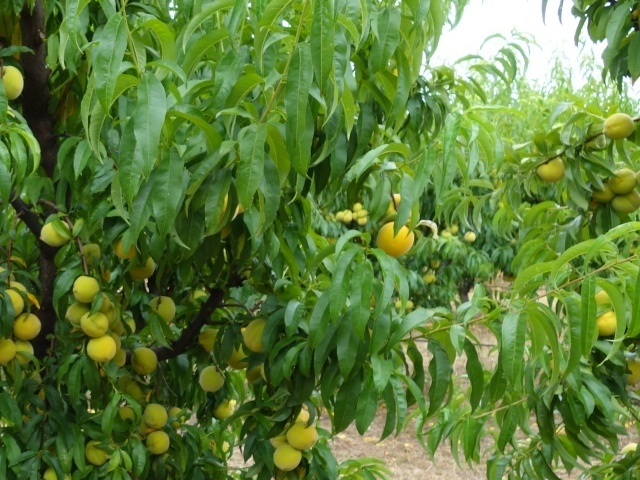peach: (590, 287, 628, 342), (375, 220, 420, 260), (241, 317, 277, 356), (84, 332, 120, 367), (37, 215, 75, 248), (11, 308, 46, 343), (533, 150, 568, 185), (601, 110, 638, 143), (283, 421, 322, 451), (1, 62, 28, 105), (195, 362, 228, 397), (67, 272, 103, 304), (145, 293, 179, 326), (272, 443, 306, 475), (77, 309, 112, 340), (1, 280, 30, 317), (607, 162, 639, 194), (128, 346, 160, 377), (141, 399, 171, 432), (82, 438, 112, 471), (125, 254, 158, 283), (610, 186, 639, 218), (63, 299, 93, 329), (108, 231, 138, 261), (143, 428, 172, 458), (588, 177, 619, 205), (196, 325, 224, 355), (268, 428, 297, 456), (10, 338, 36, 367), (211, 398, 237, 424), (161, 406, 188, 431), (78, 241, 103, 267), (1, 336, 21, 366)
